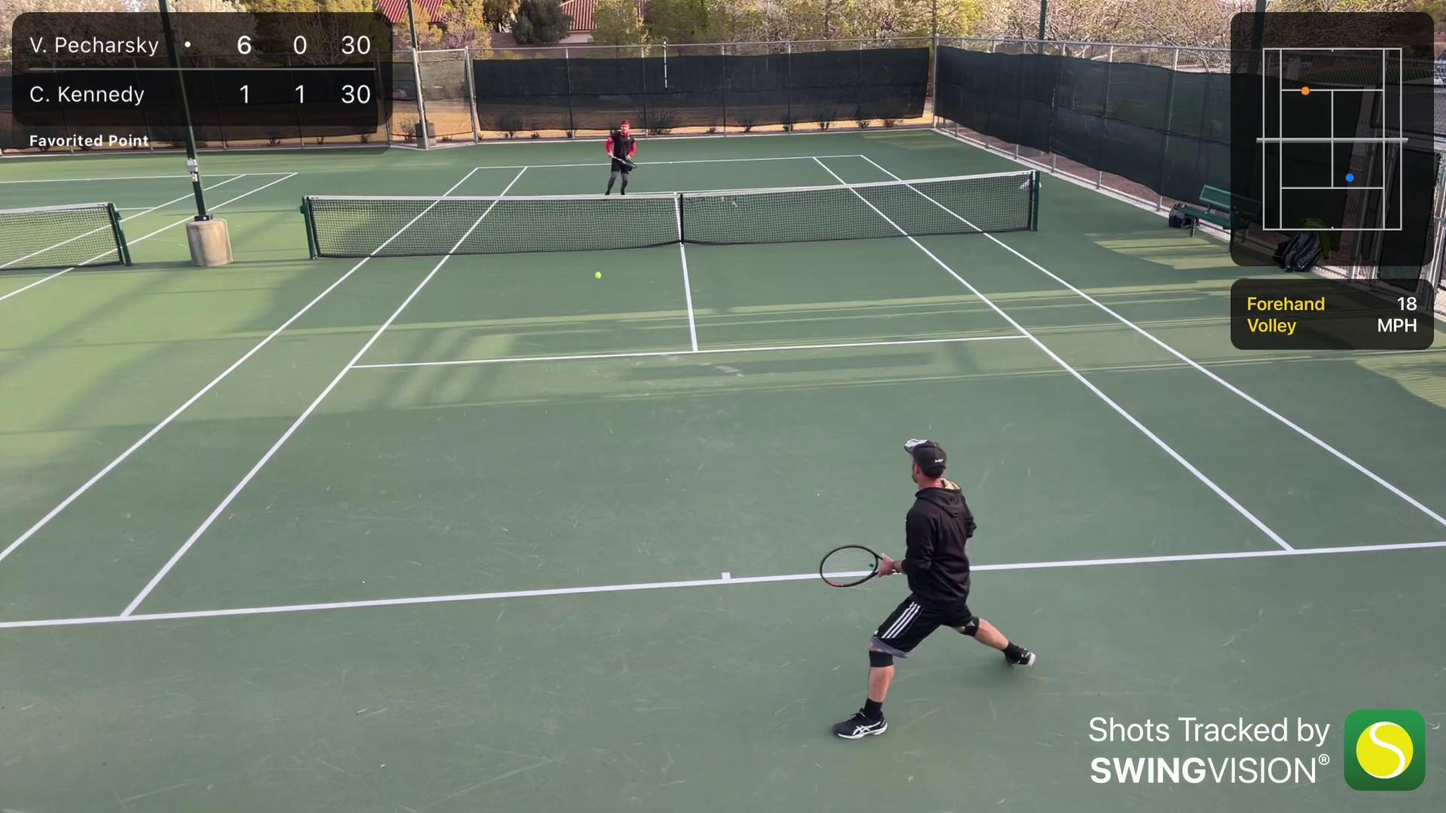ball: (595, 272, 601, 281)
